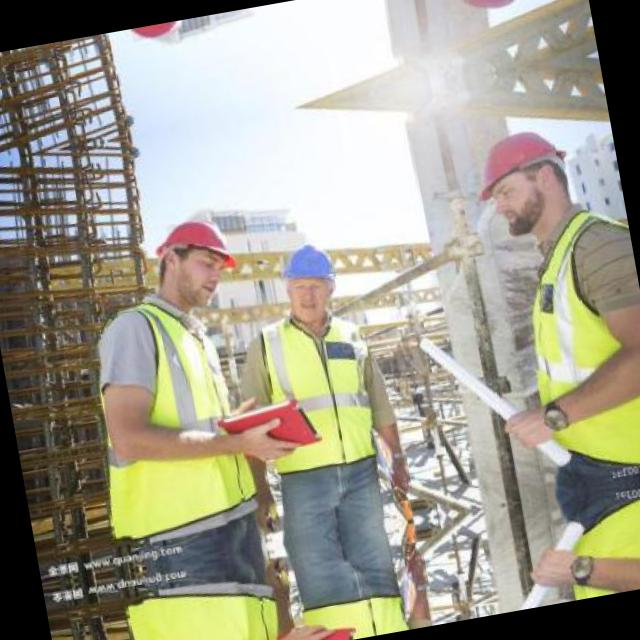helmet: (462, 118, 582, 242), (138, 202, 244, 310), (270, 228, 350, 334), (106, 17, 200, 57), (432, 0, 544, 25)
